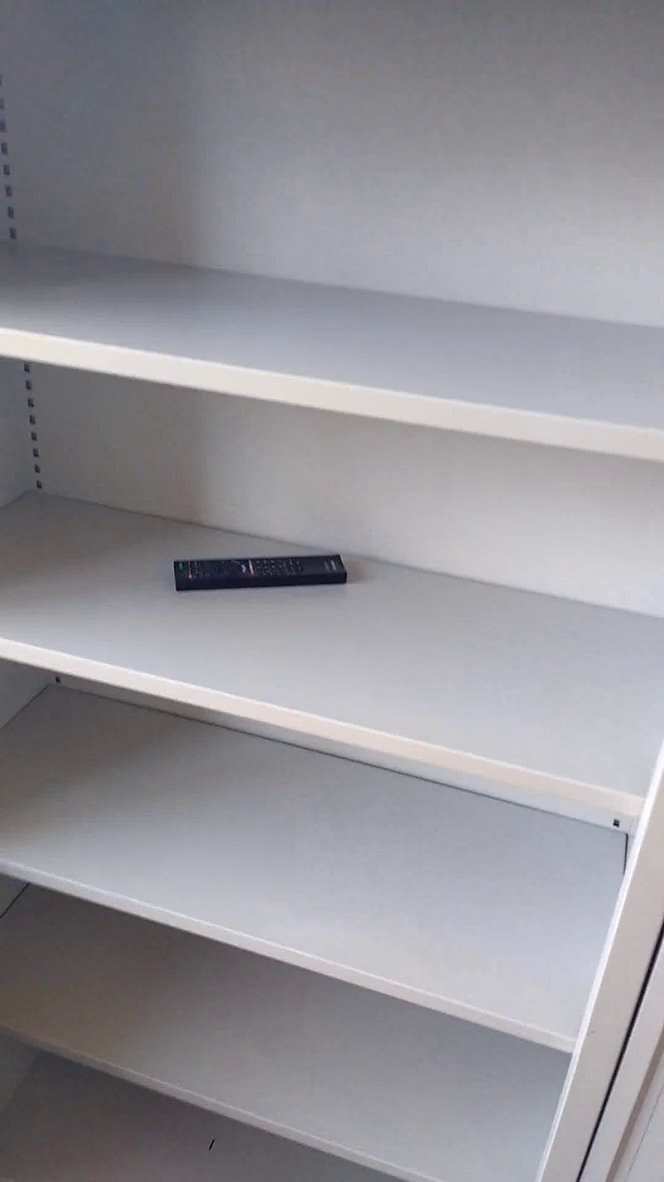remote: (165, 540, 366, 601)
